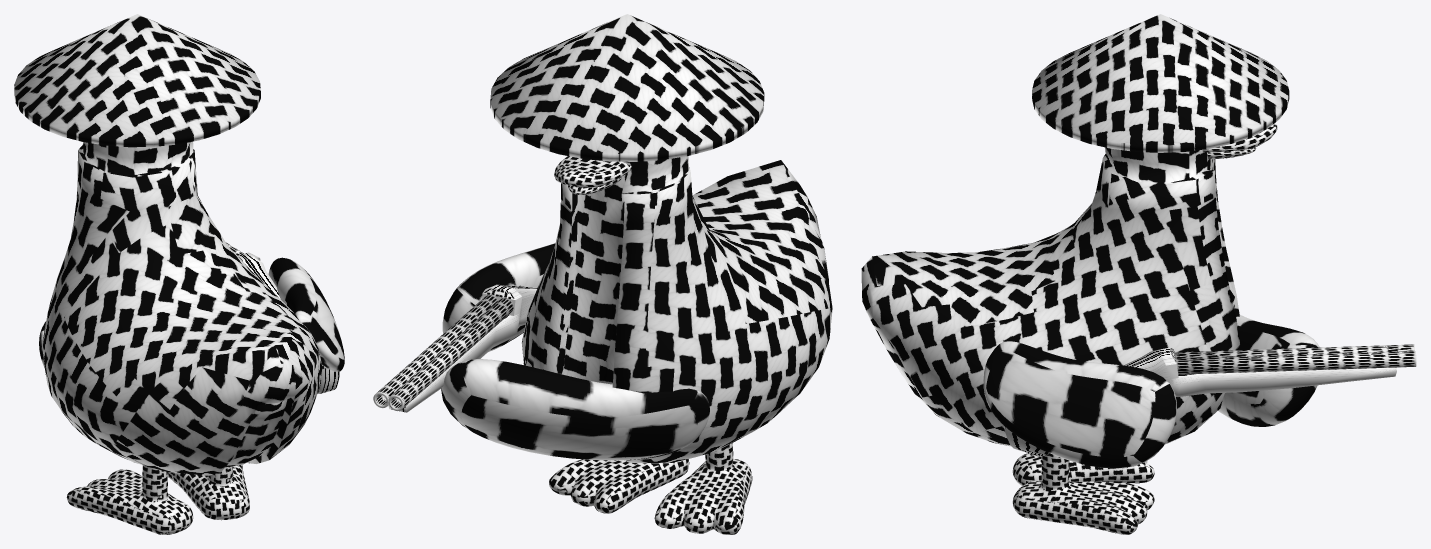
Rendered from Kamo.gltf.
3 renders of one model, left to right at view 1: azimuth 30°, elevation 25°; view 2: azimuth 150°, elevation 25°; view 3: azimuth 270°, elevation 25°, orthographic. The views are drawn at different scales.
Visible parts, largest first — view 1: Cone; view 2: Cone; view 3: Cone.
Part boxes in pixels (left/top/right/bottom): Cone: left=14, top=14, right=344, bottom=534; Cone: left=373, top=14, right=832, bottom=534; Cone: left=861, top=14, right=1416, bottom=534.
Size of the model in its own units: 2.66 by 4.15 by 4.31.
7 materials, 7 textured.
